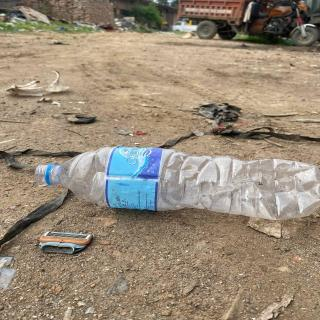Plastic-bottle: (29, 145, 320, 223)
